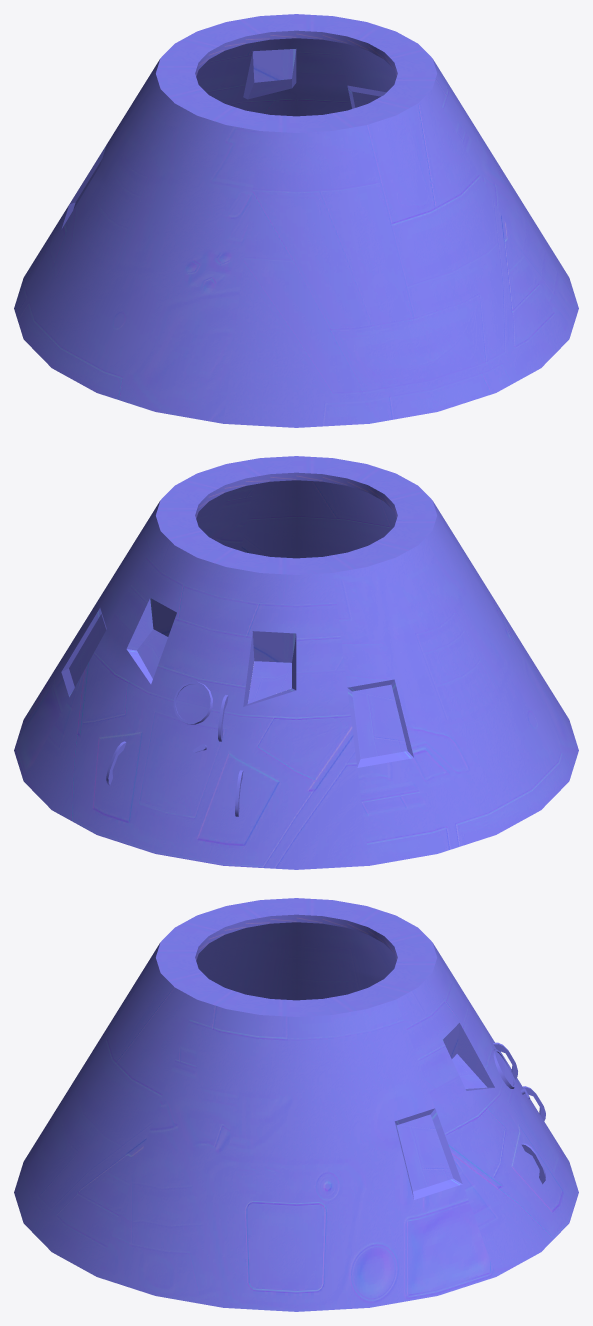
Rendered from Apollo_Capsule_AObake.fbx.
3 views of the same model, one above another, from view 1: azimuth 30°, elevation 25°; view 2: azimuth 150°, elevation 25°; view 3: azimuth 270°, elevation 25° (orthographic).
Parts seen in each view (by area): view 1: Apollo_Capsule_NewDoor2; view 2: Apollo_Capsule_NewDoor2; view 3: Apollo_Capsule_NewDoor2.
Part boxes in pixels (<box>): Apollo_Capsule_NewDoor2: <box>14,14,578,427</box>; Apollo_Capsule_NewDoor2: <box>14,456,578,869</box>; Apollo_Capsule_NewDoor2: <box>14,898,578,1311</box>.
Size of the model in its own units: 2500 by 1147 by 2500.
